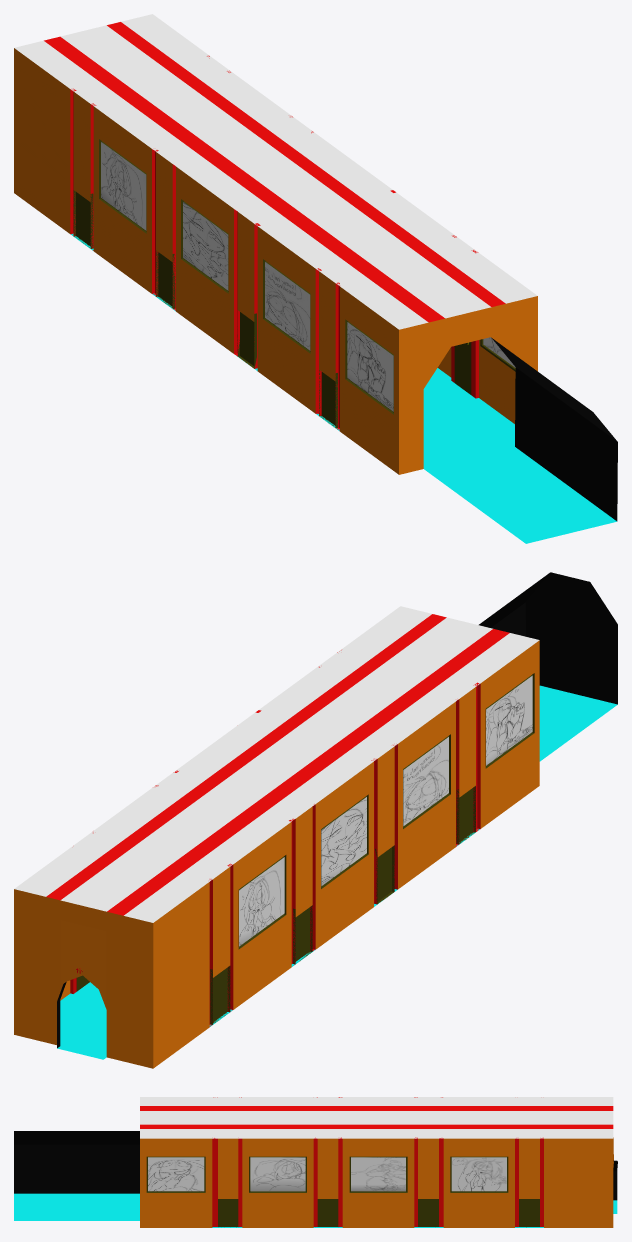
Rendered from Inside Of Circus.fbx.
3 renders of one model, top to bottom at view 1: azimuth 30°, elevation 25°; view 2: azimuth 150°, elevation 25°; view 3: azimuth 270°, elevation 25°, orthographic. The views are drawn at different scales.
Parts seen in each view (by area): view 1: Cube; view 2: Cube; view 3: Cube.
Boxes of the visible parts, <box> form: Cube: <box>14,14,617,543</box>; Cube: <box>14,572,617,1068</box>; Cube: <box>14,1097,617,1227</box>.
Size of the model in its own units: 97.67 by 97.68 by 599.
Materials: 17 (8 with a texture image).
